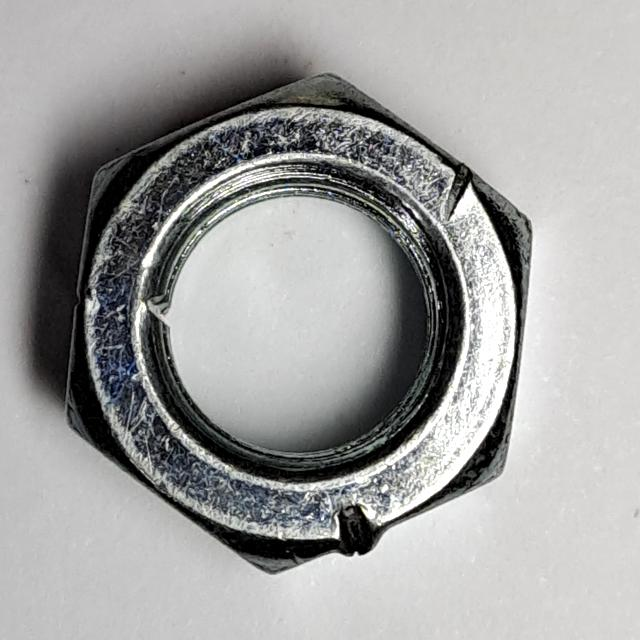Scratches: (49, 57, 547, 589)
